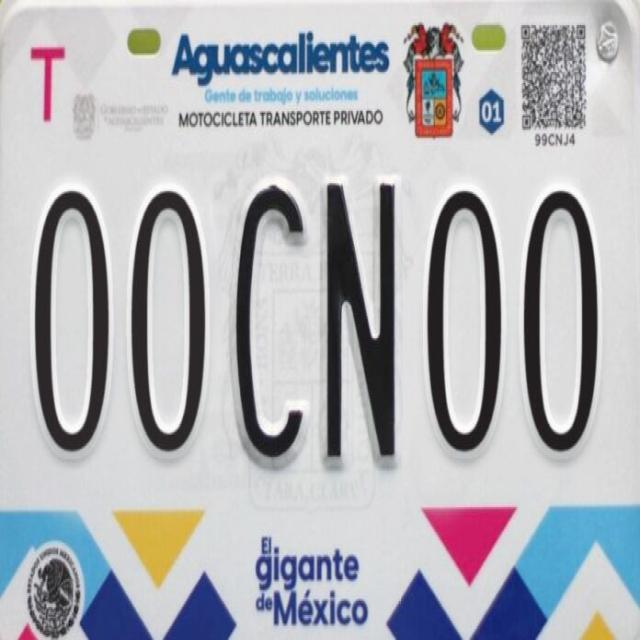placa: (6, 146, 631, 494)
